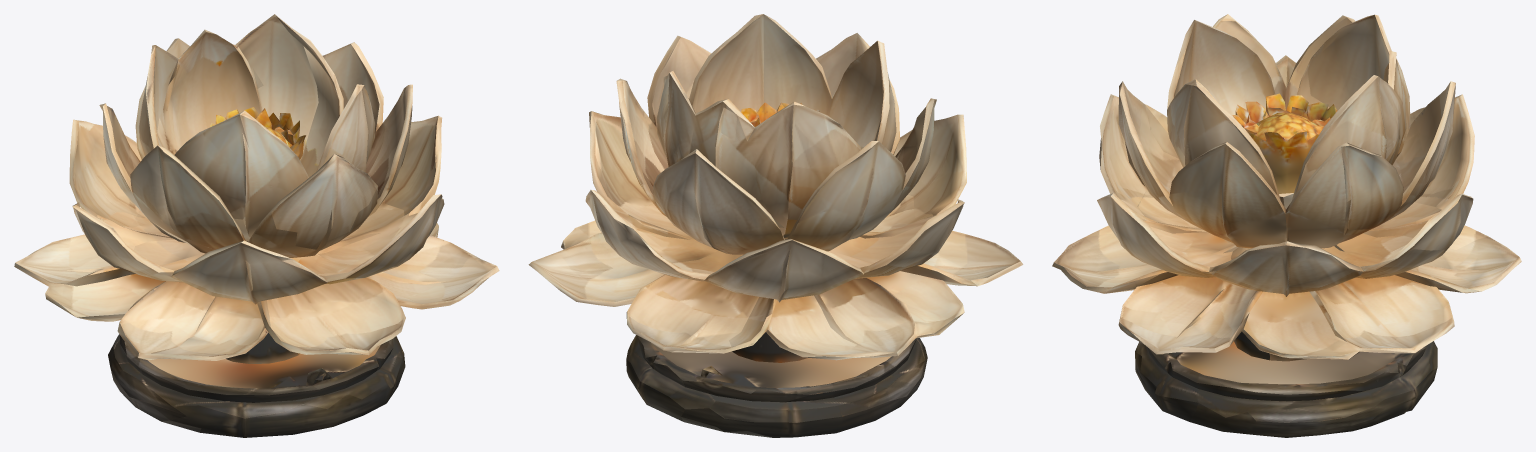
The model's file is paper-lotus.glb.
3 views of the same model, side by side, from view 1: azimuth 30°, elevation 25°; view 2: azimuth 150°, elevation 25°; view 3: azimuth 270°, elevation 25° (orthographic). The views are drawn at different scales.
Visible parts, largest first — view 1: geometry_0; view 2: geometry_0; view 3: geometry_0.
Boxes of the visible parts, x1,y1,x2,y2 form: geometry_0: [14, 14, 499, 437]; geometry_0: [528, 14, 1023, 437]; geometry_0: [1052, 14, 1521, 437].
Size of the model in its own units: 0.32 by 0.2627 by 0.3346.
1 material, 1 textured.
